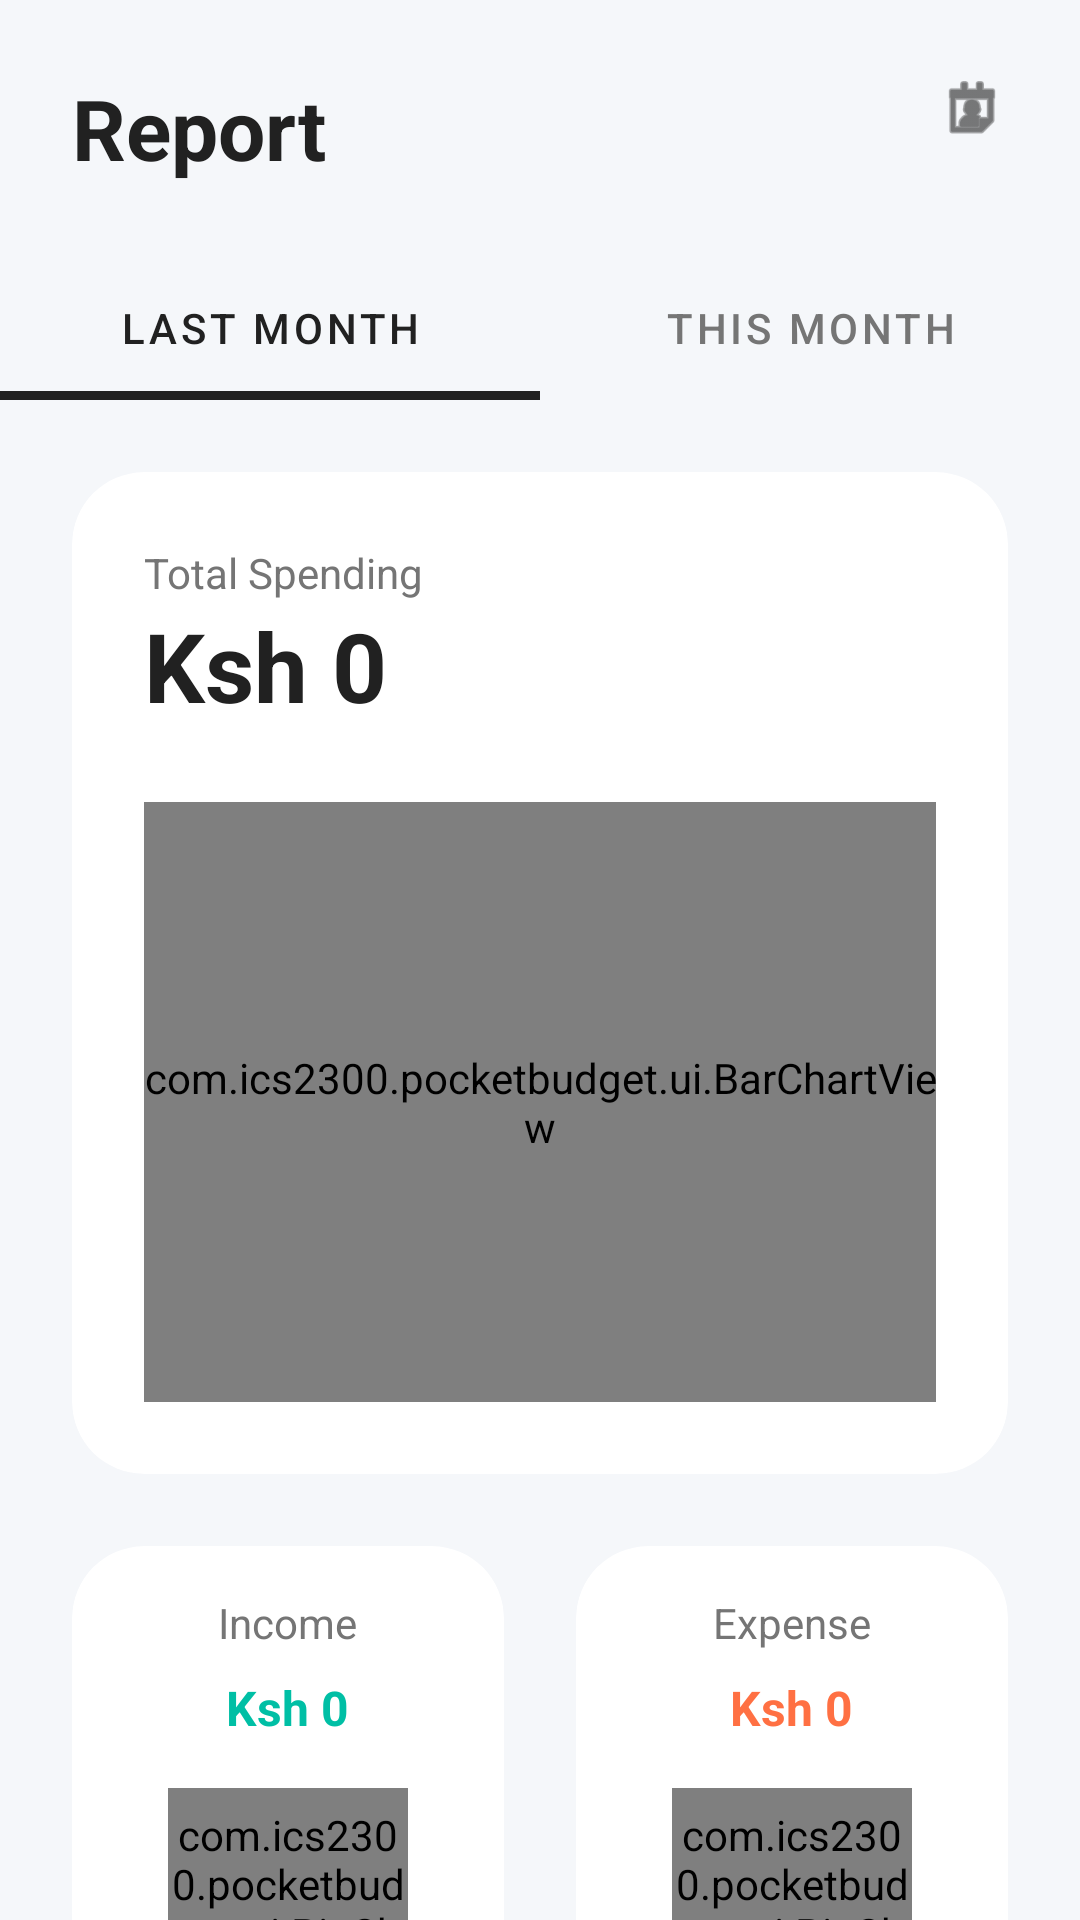

Point at icon controls on the screen. Image size 1080px x 1920px, points as (x=x, y=y).
calendar: (x=972, y=107)
